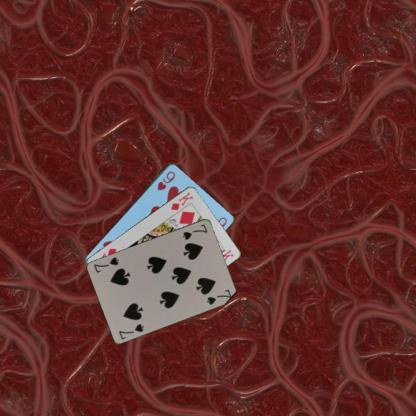7s: (180, 221, 209, 241), (116, 321, 145, 340)
9h: (155, 168, 176, 191)
Kd: (168, 189, 195, 211)
